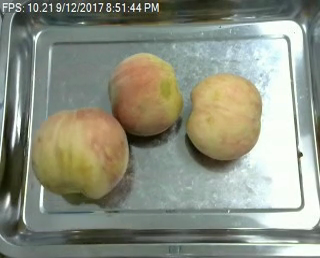Peach: (31, 106, 130, 199), (185, 74, 260, 159), (107, 51, 182, 136)
